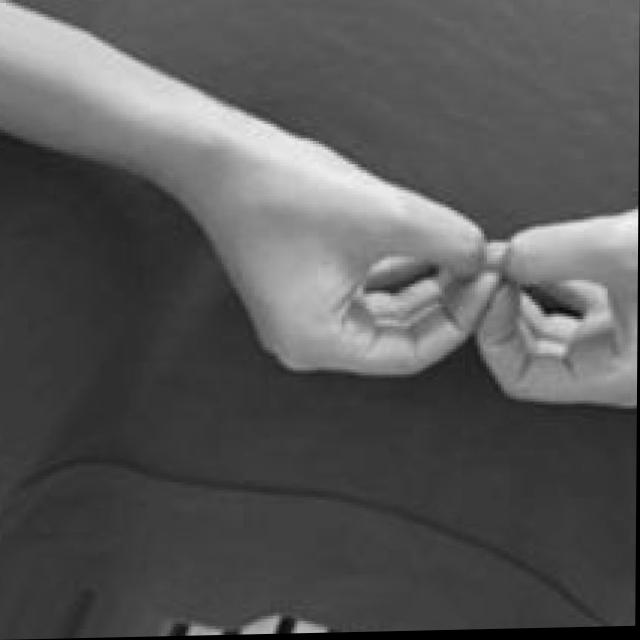B: (184, 149, 639, 419)
